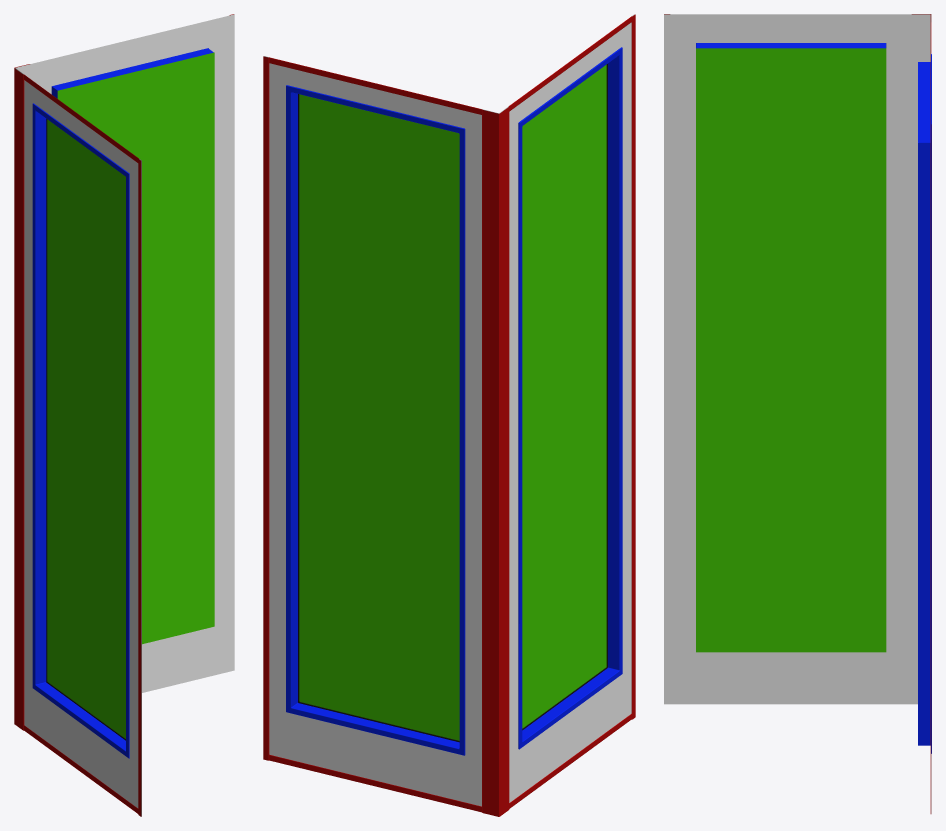
File: Wall02Window02CornerExt.fbx
The picture shows the model from 3 angles, left to right: view 1: azimuth 30°, elevation 25°; view 2: azimuth 150°, elevation 25°; view 3: azimuth 270°, elevation 25°; orthographic projection. The views are drawn at different scales.
Parts seen in each view (by area): view 1: Wall02Window02CornerExt; view 2: Wall02Window02CornerExt; view 3: Wall02Window02CornerExt.
Part boxes in pixels (<box>): Wall02Window02CornerExt: <box>14,14,234,816</box>; Wall02Window02CornerExt: <box>263,14,635,816</box>; Wall02Window02CornerExt: <box>664,14,931,813</box>.
Size of the model in its own units: 106 by 300 by 106.
